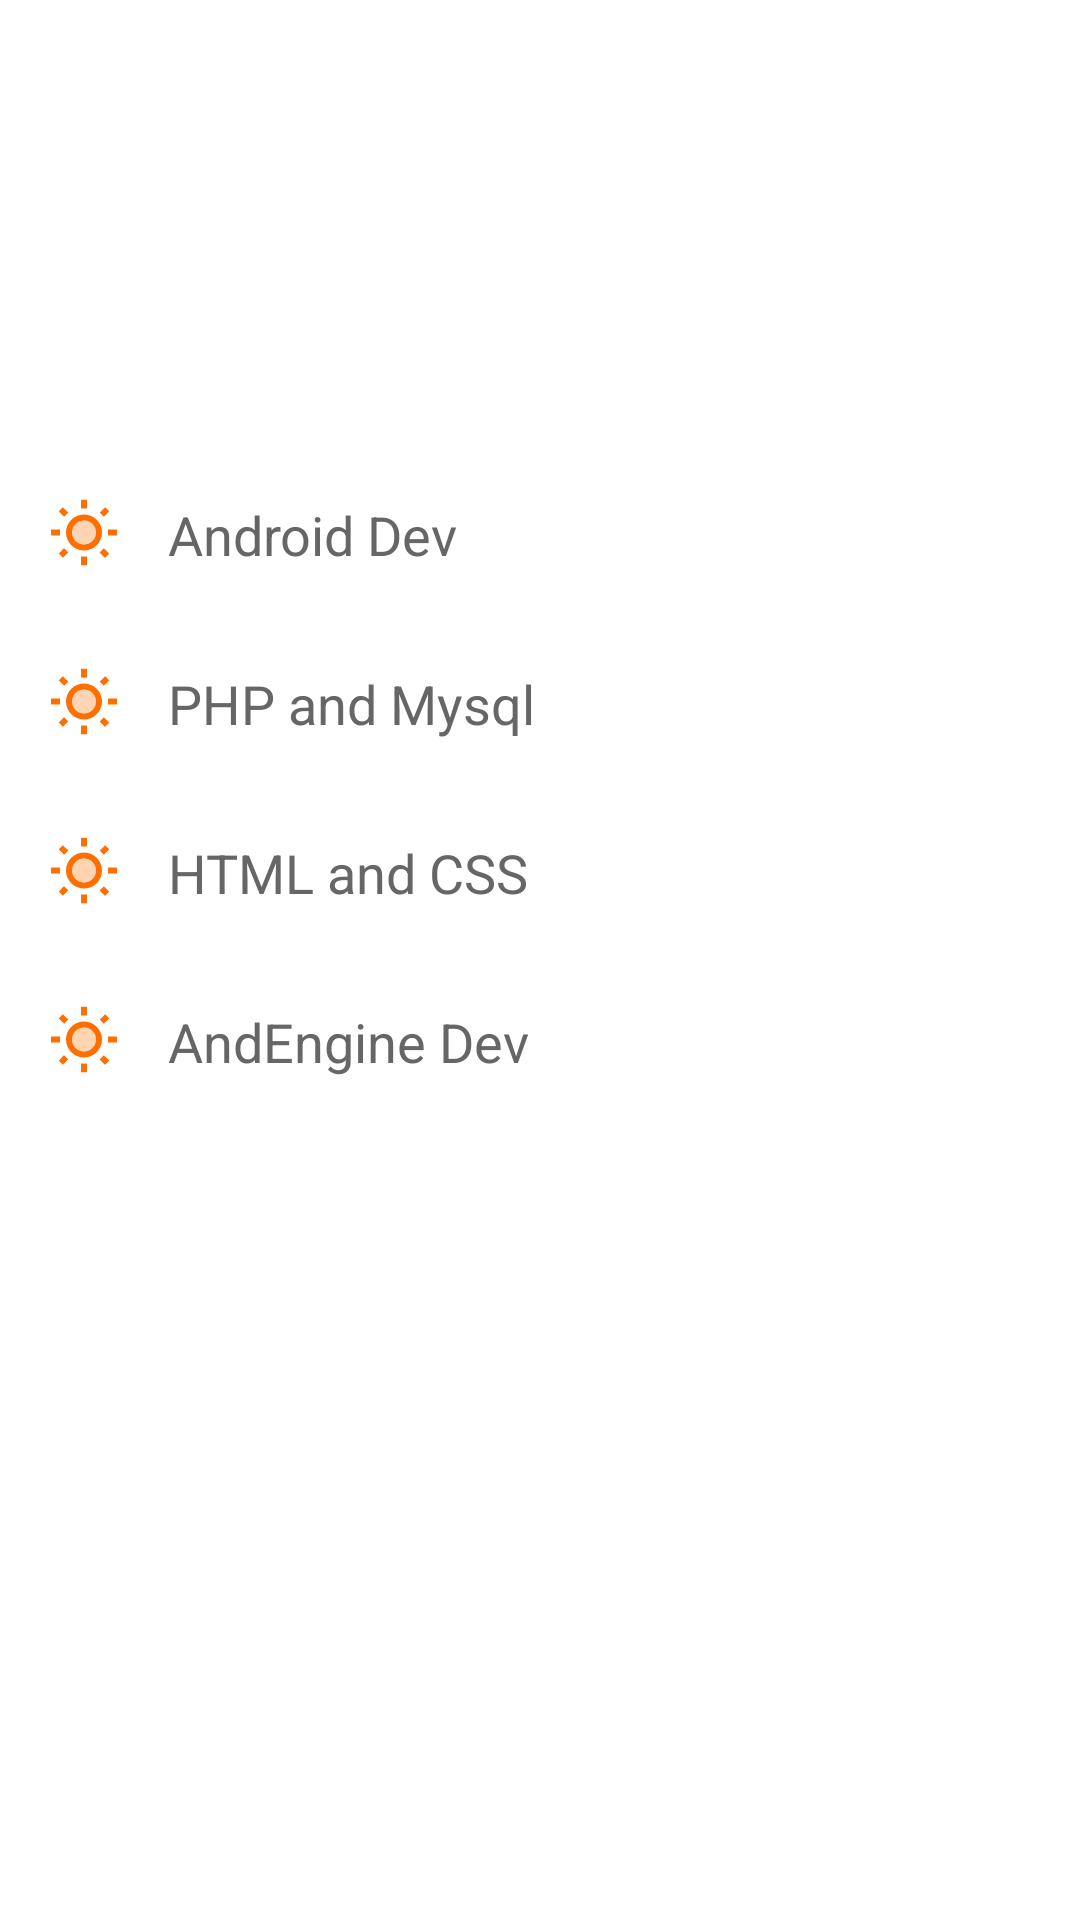

Screen size 1080×1920. Icon name, then its box in pixels as (x1, y1, x2, y2):
day mode: (51, 499, 117, 566), (51, 668, 117, 735), (51, 837, 117, 904), (51, 1006, 117, 1073)
